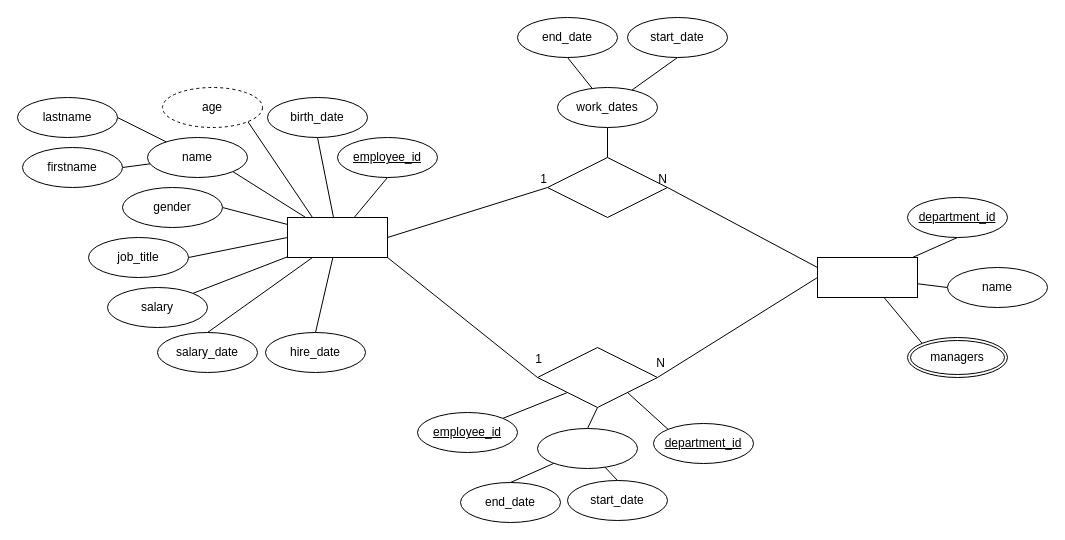
This 1065x540 diagram has some shape labels left out. Each missing label, with the box of its shape:
Departments: (816, 256, 918, 298)
Employees: (286, 216, 388, 258)
manage: (536, 346, 658, 408)
manage_dates: (536, 428, 638, 468)
works_in: (546, 156, 668, 218)
